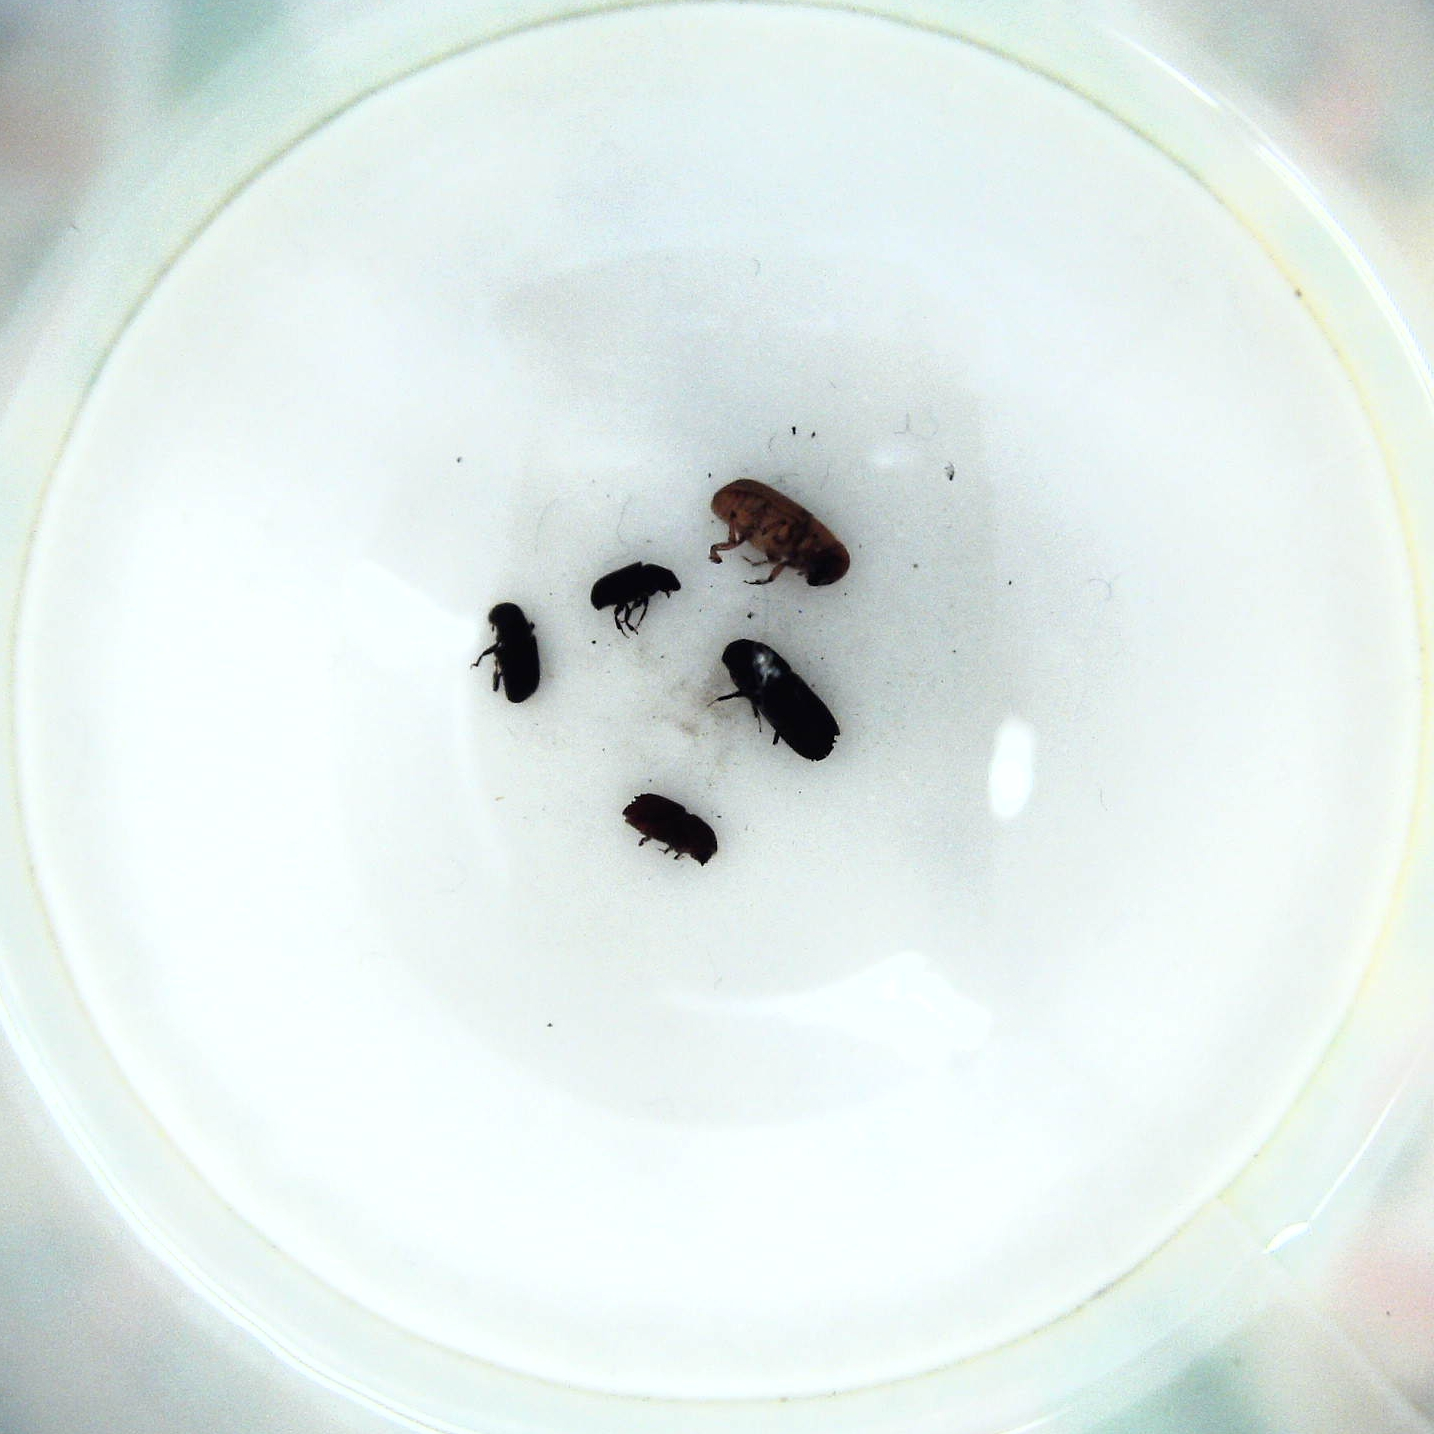Boerner: (710, 640, 844, 766)
Leconte: (699, 478, 852, 597)
armandi: (467, 600, 550, 706)
coleoptera: (590, 558, 684, 640)
linnaeus: (616, 788, 718, 865)
